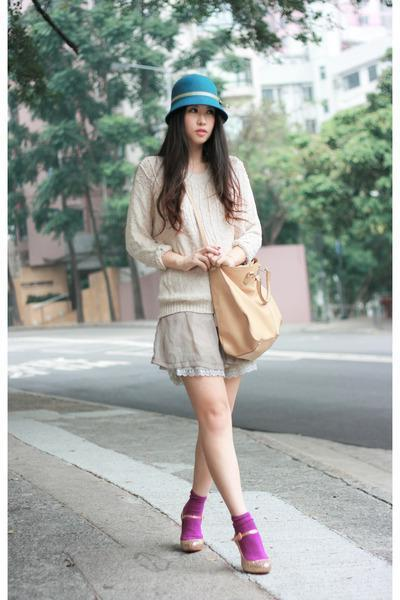skirt: (148, 307, 263, 382)
sweater: (123, 152, 265, 320)
